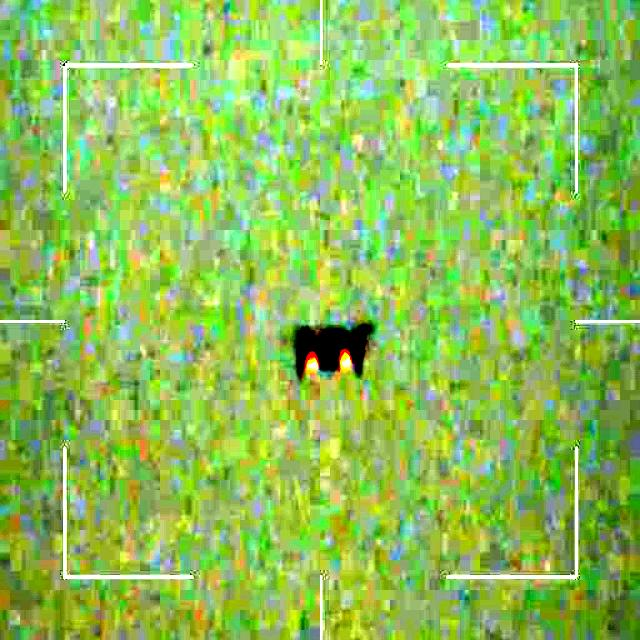bird: (291, 318, 374, 380)
